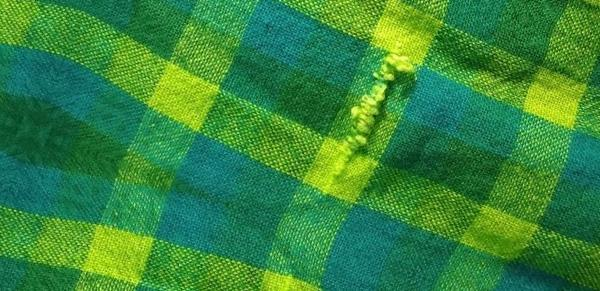knot: (336, 48, 413, 189)
